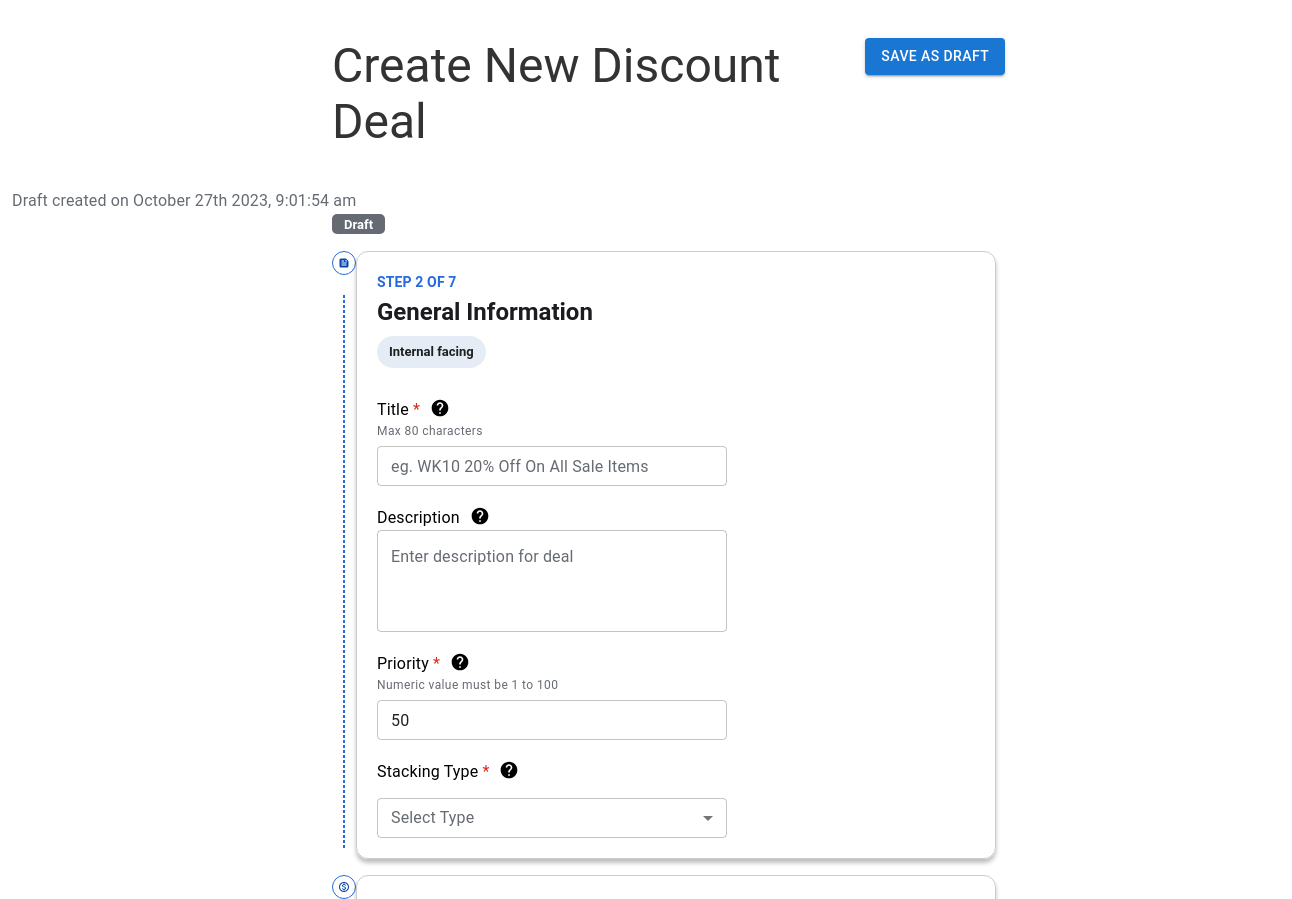
Test: Create deal form tests › Priority field tests › Proper error messages are displayed for empty priority field
Clear the number field with test id "priority". click: (541, 720)
box: [377,692,705,748]
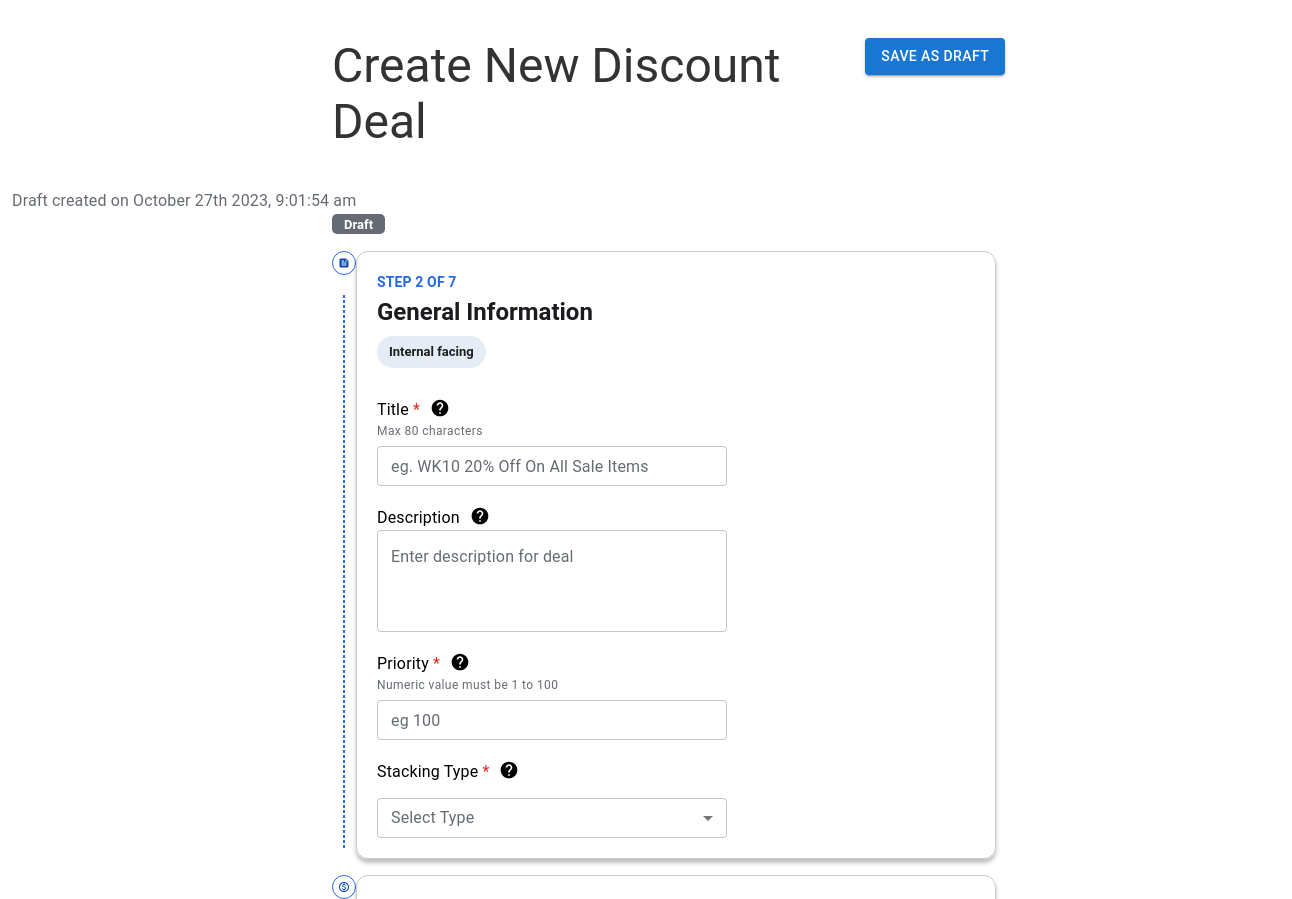
Leave the number field with test id "priority", box [377,692,705,748]
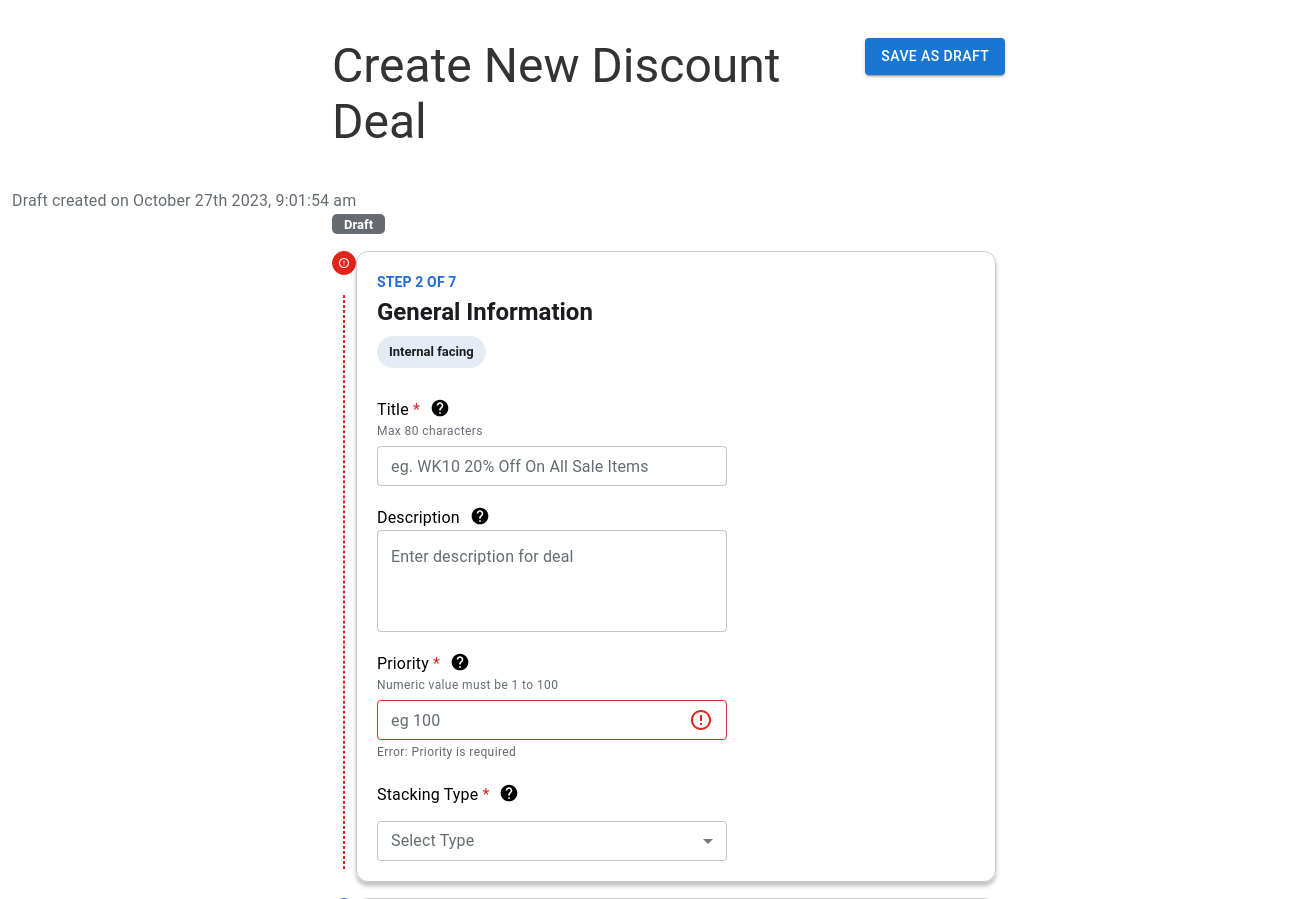
Now the text with test id "priority-field-error" reads "Error: Priority is required", box [377,745,516,759]
